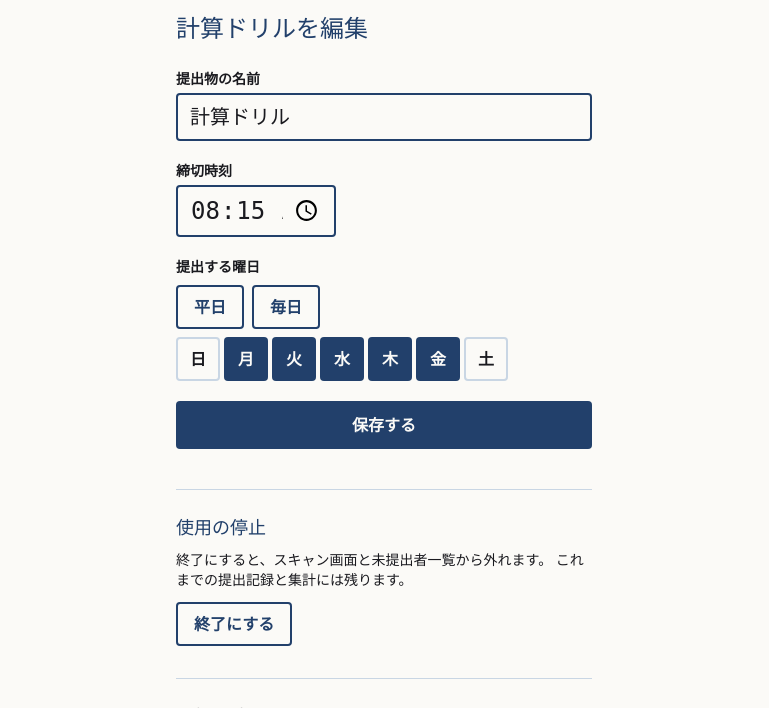
Test: 保存 › 締切を変えられる
The image size is (769, 708).
Replace the text in the time field labelled "締切時刻" with "08:30" at (256, 211), box [176,185,336,237]
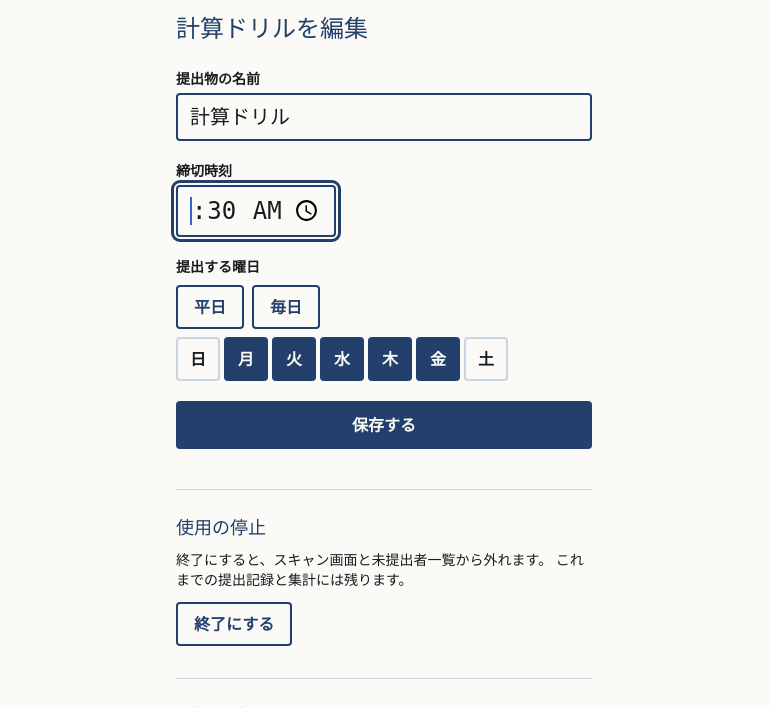
Click the button "保存する".
click(384, 425)  # box [176,401,592,449]
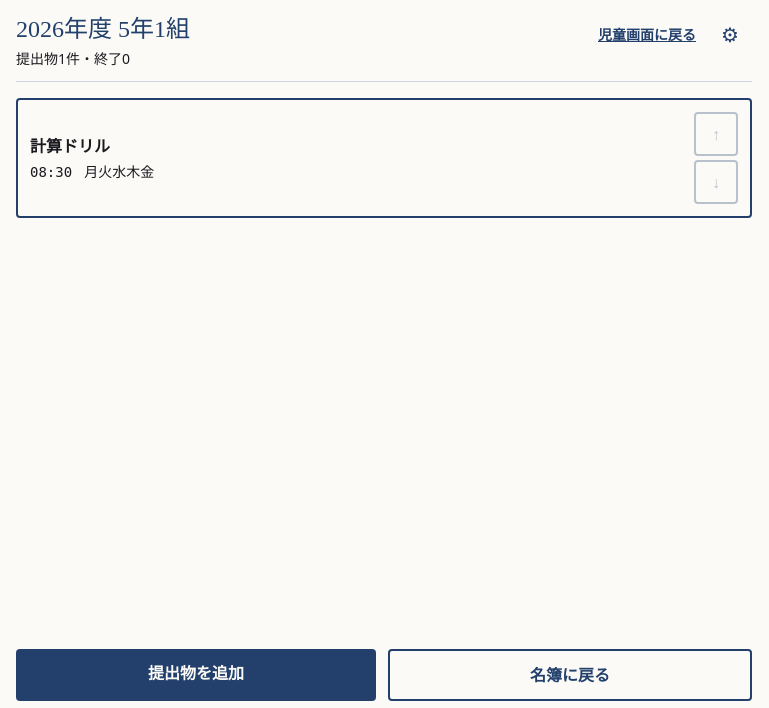
expect the text "提出物1件・終了0" is shown: met, box [16,49,130,68]
